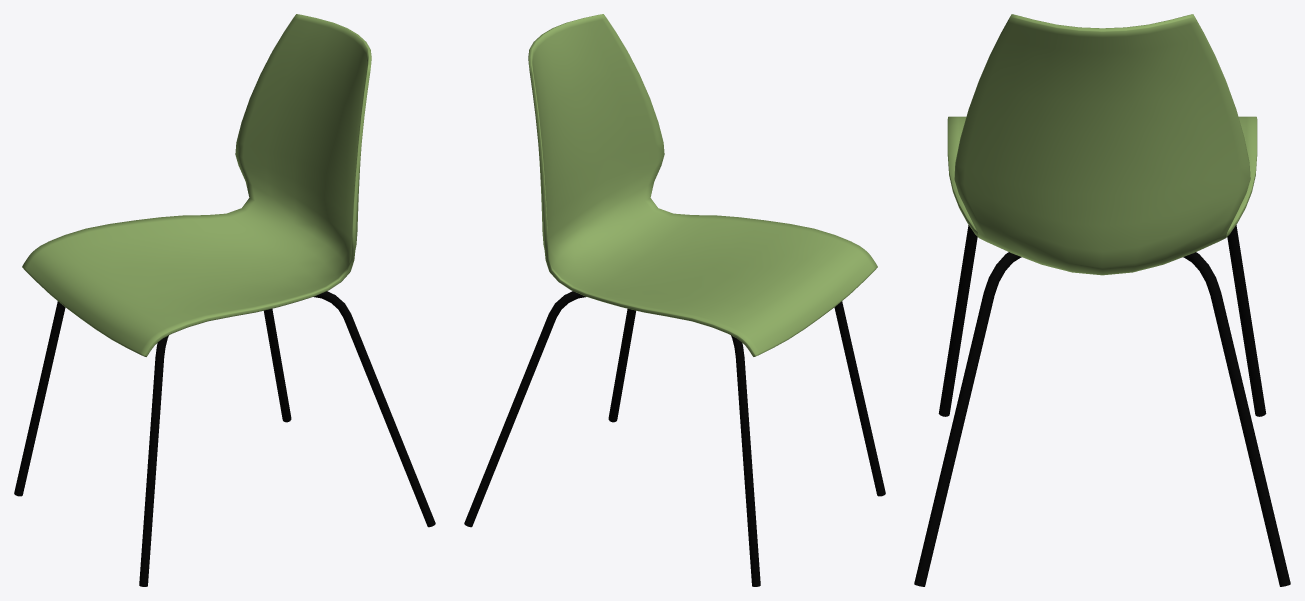
The model's file is 109 stol Grøn.obj.
The picture shows the model from 3 angles, left to right: view 1: azimuth 30°, elevation 25°; view 2: azimuth 150°, elevation 25°; view 3: azimuth 270°, elevation 25°; orthographic projection. The views are drawn at different scales.
Parts seen in each view (by area): view 1: furniture_megapack_1821, furniture_megapack_1822, furniture_megapack_1823; view 2: furniture_megapack_1821, furniture_megapack_1823, furniture_megapack_1822; view 3: furniture_megapack_1821, furniture_megapack_1822, furniture_megapack_1823.
Part boxes in pixels (bbox=[...]): furniture_megapack_1821: bbox=[22, 14, 371, 356]; furniture_megapack_1822: bbox=[14, 291, 435, 527]; furniture_megapack_1823: bbox=[139, 309, 291, 586]; furniture_megapack_1821: bbox=[528, 14, 877, 356]; furniture_megapack_1823: bbox=[464, 291, 885, 527]; furniture_megapack_1822: bbox=[608, 309, 760, 586]; furniture_megapack_1821: bbox=[947, 14, 1257, 275]; furniture_megapack_1822: bbox=[914, 225, 1266, 586]; furniture_megapack_1823: bbox=[938, 225, 1290, 586].
Size of the model in its own units: 55.24 by 81.28 by 49.86.
